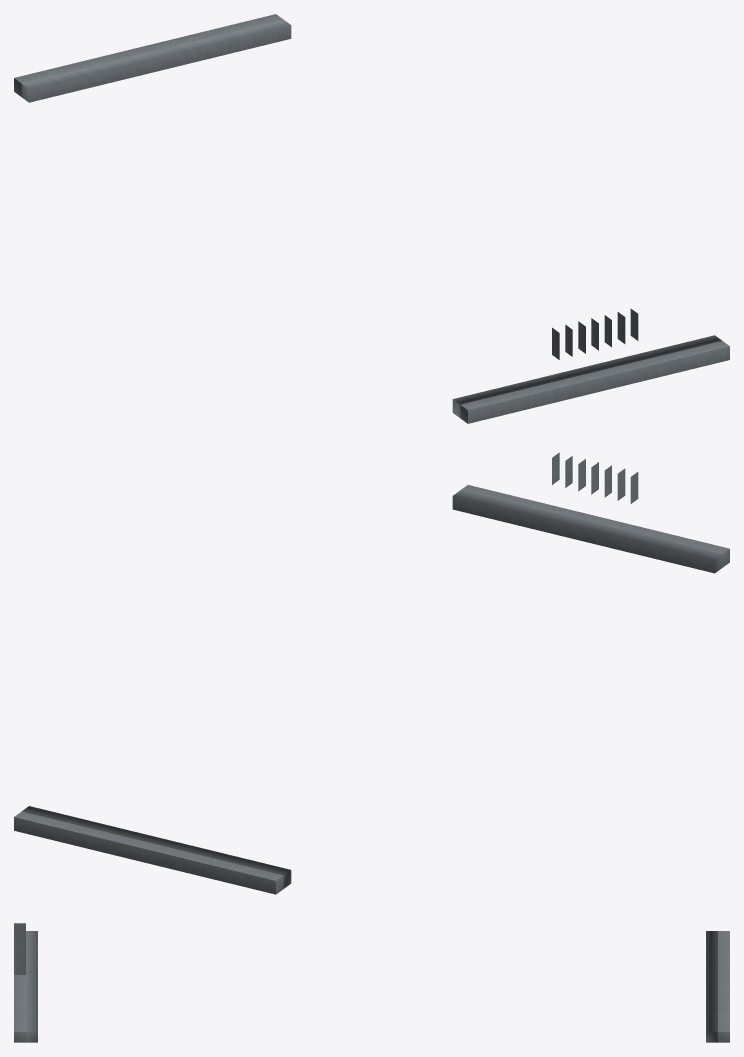
The picture shows the model from 3 angles, top to bottom: view 1: azimuth 30°, elevation 25°; view 2: azimuth 150°, elevation 25°; view 3: azimuth 270°, elevation 25°; orthographic projection. The views are drawn at different scales.
Size of the model in its own units: 1.6 by 0.4 by 4.8.
Materials: 1 (1 with a texture image).
